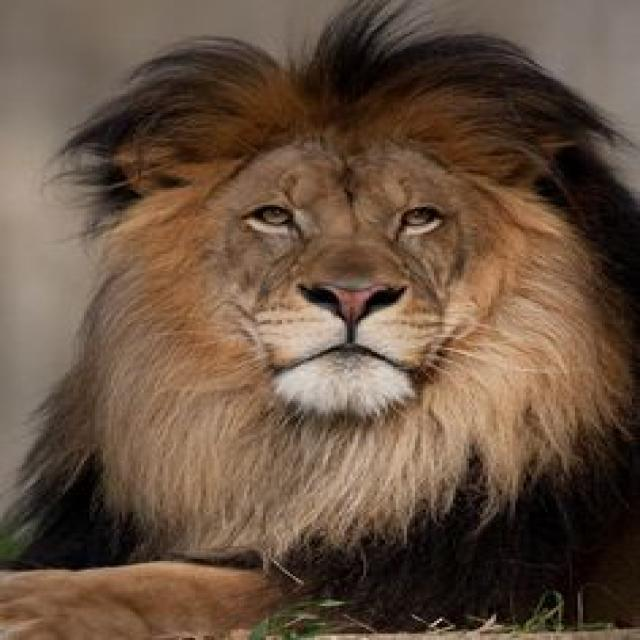lions: (10, 16, 640, 640)
